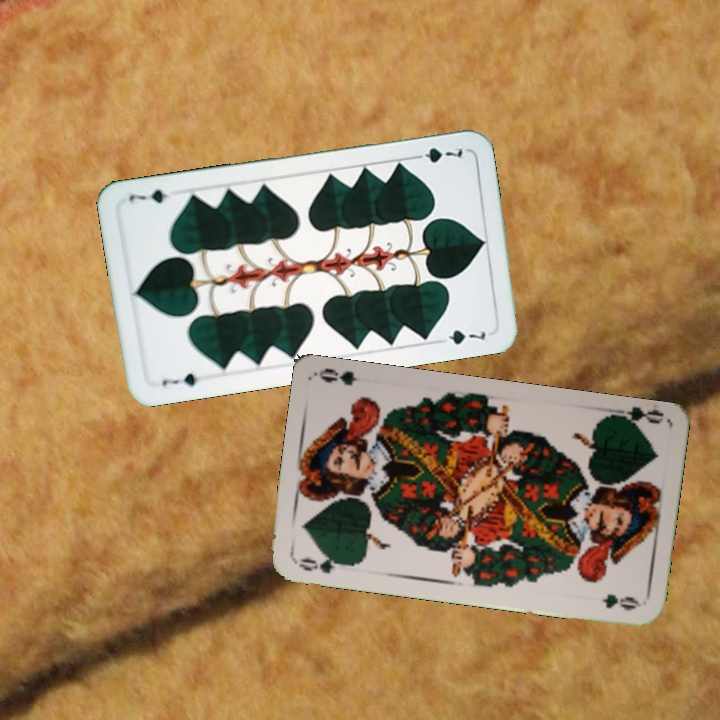G7: (408, 143, 465, 166), (158, 369, 209, 389)
GO: (604, 404, 665, 432), (292, 550, 352, 576)
